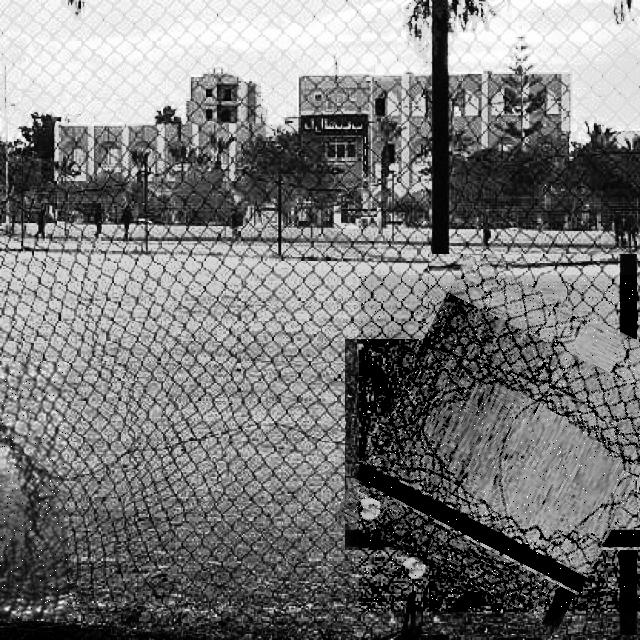anomaly-fence: (359, 275, 640, 612), (0, 362, 67, 619)
